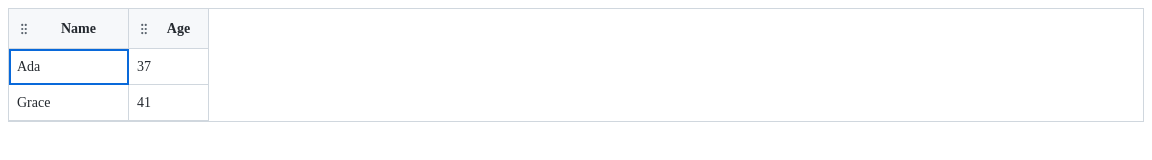
Test case: GenDataGrid interaction contract › starts editing when an editable active cell is clicked again
Press the mouse on the cell "Grace" at x=69, y=103, box [9,85,129,121]
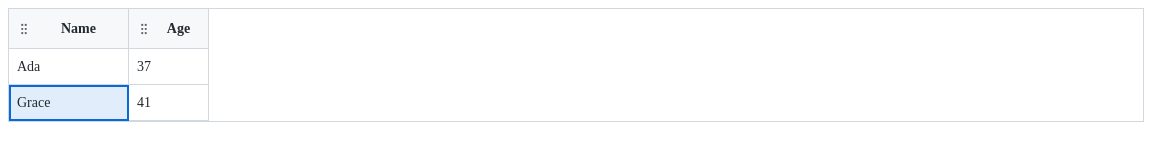
Press the mouse on the cell "Grace" at x=69, y=103, box [9,85,129,121]
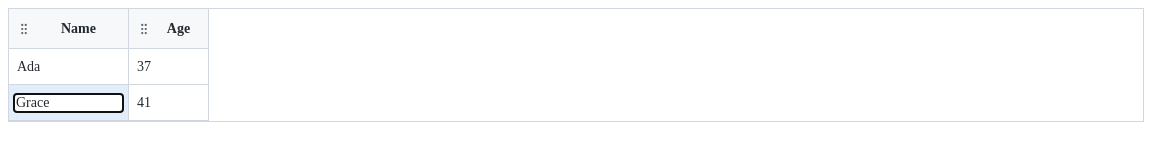
expect the field named "name editor" is shown: met, box [13,92,124,112]
